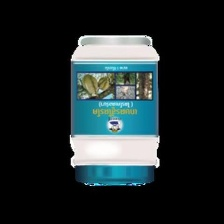insecticide: (65, 30, 162, 190)
